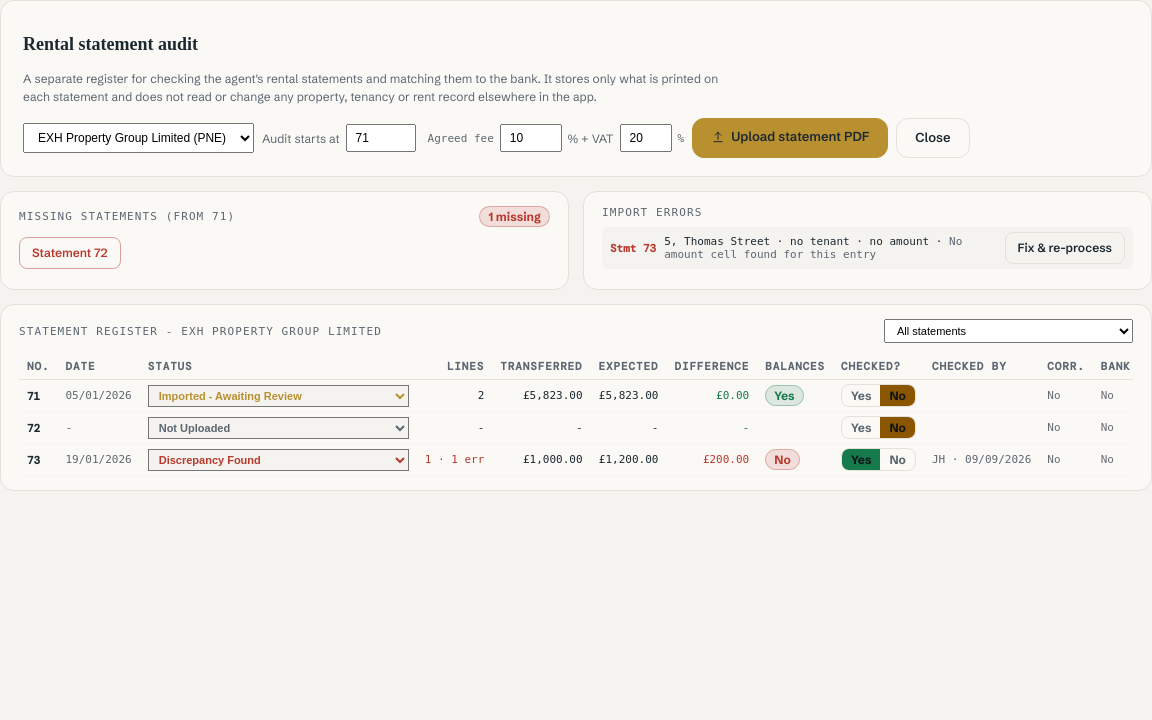
it: StatementAuditPage › reports a discrepancy with expected, stated and the difference
Expected: the text "Statement register - EXH Property Group Limited" is shown, x1=19 y1=325 x2=382 y2=338
Click the text "73" at (34, 460), box x1=27 y1=453 x2=40 y2=467
(page scrolled)
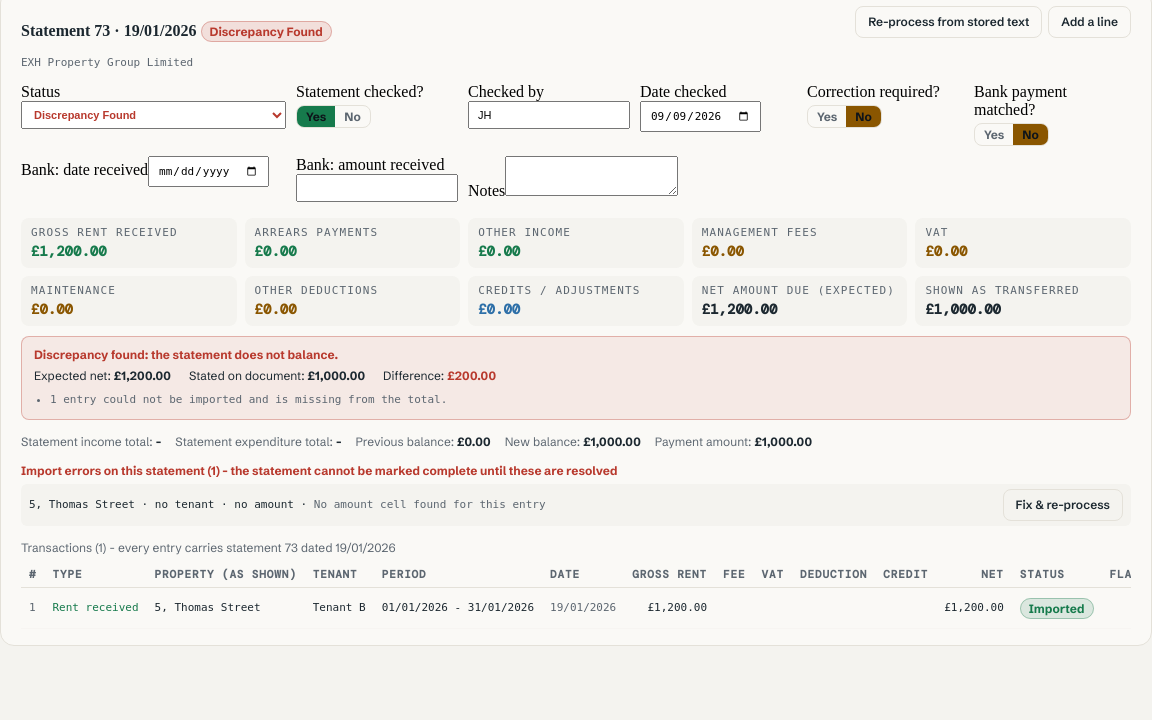
Result: the text "Discrepancy found: the statement does not balance." is shown at x1=34 y1=347 x2=338 y2=362
Result: the text "Expected net: £1,200.00" is shown at x1=34 y1=368 x2=171 y2=383
Result: the text "Stated on document: £1,000.00" is shown at x1=189 y1=368 x2=365 y2=383
